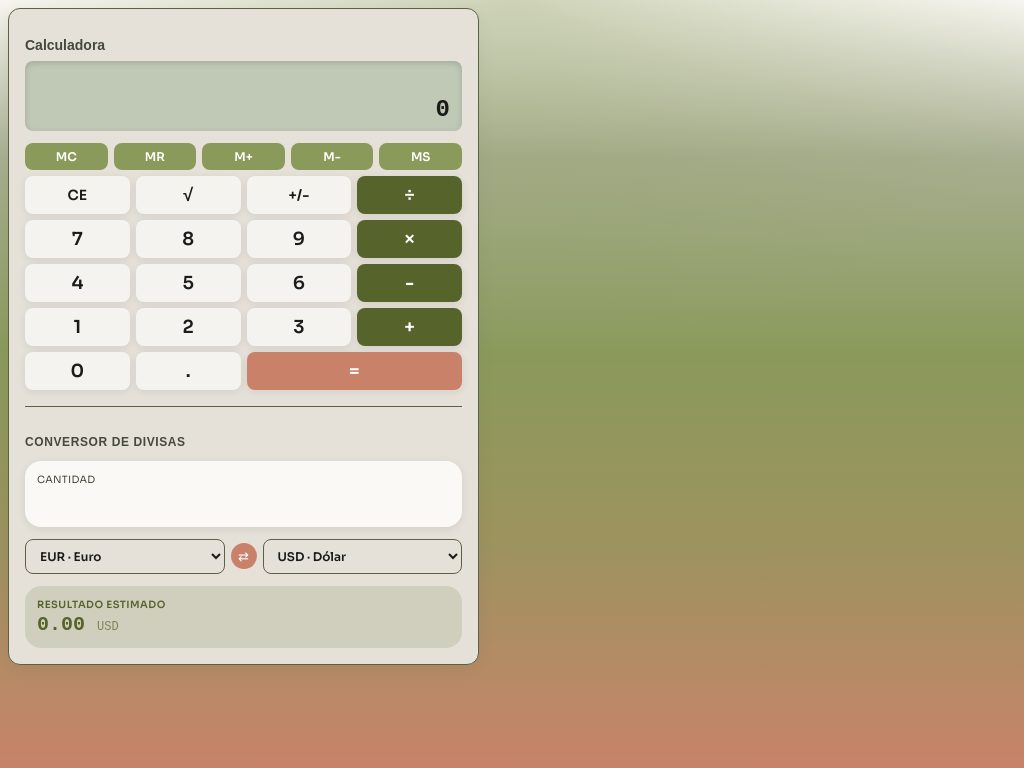
Calculator › deberia sumar dos numeros al pulsar los botones
Click the button "5": point(188, 283) [136,264,241,302]
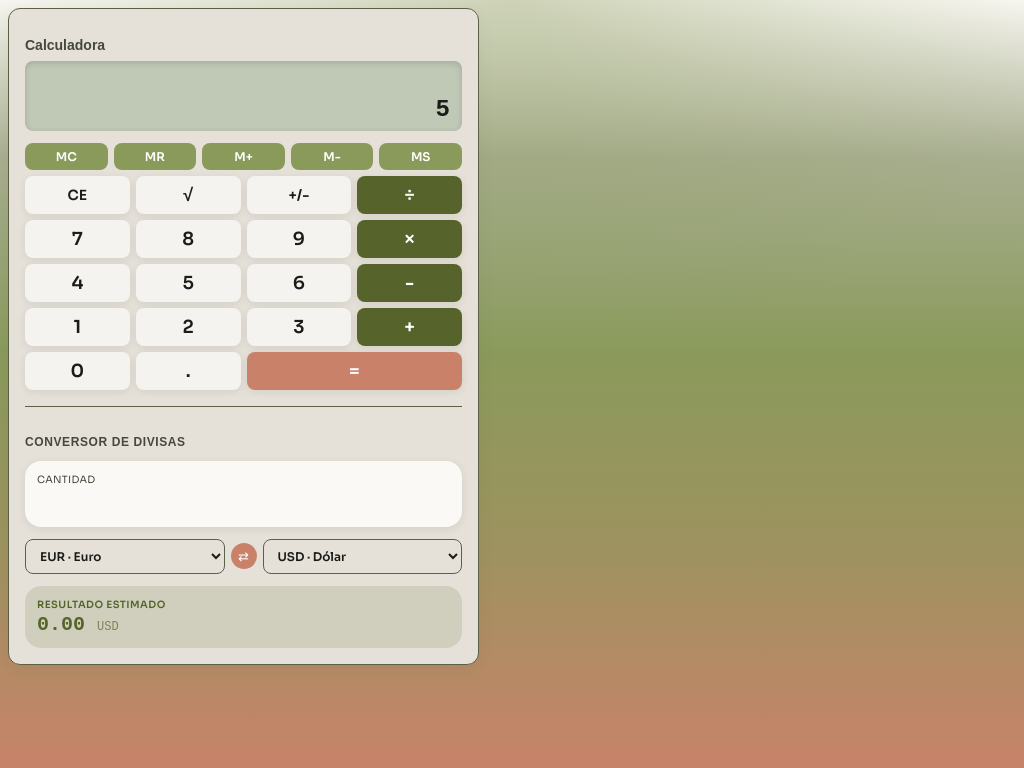
Click the button with id "btn-add": point(410, 327) [357,308,462,346]
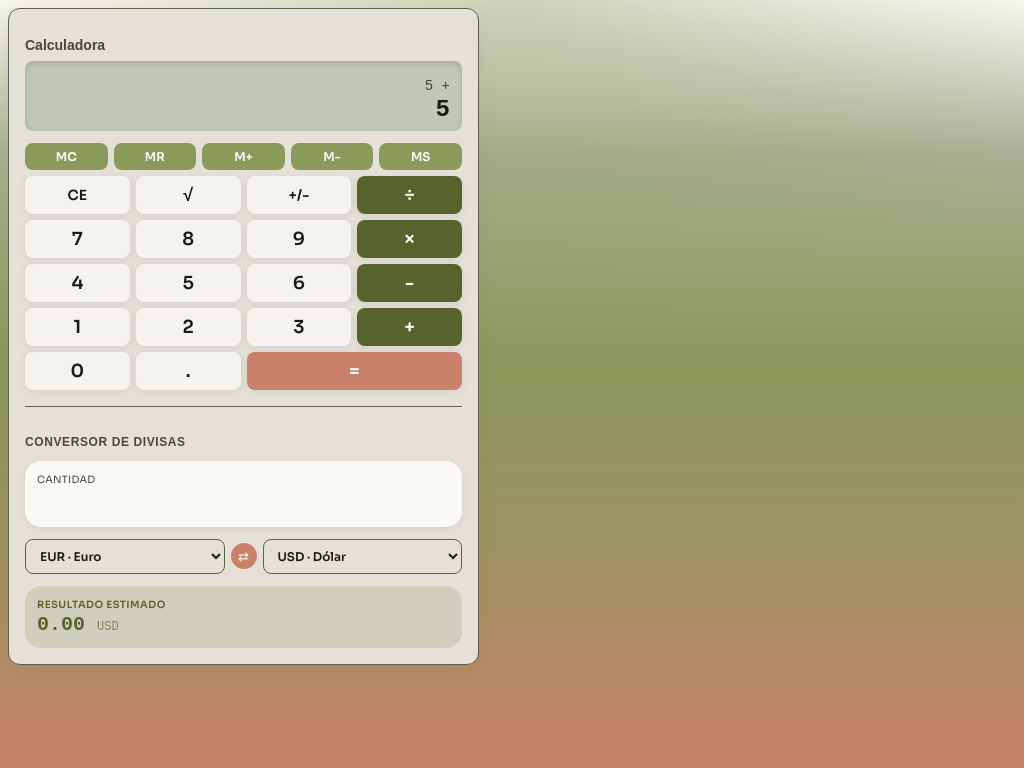
Click the button "3": point(299, 327) [246,308,351,346]
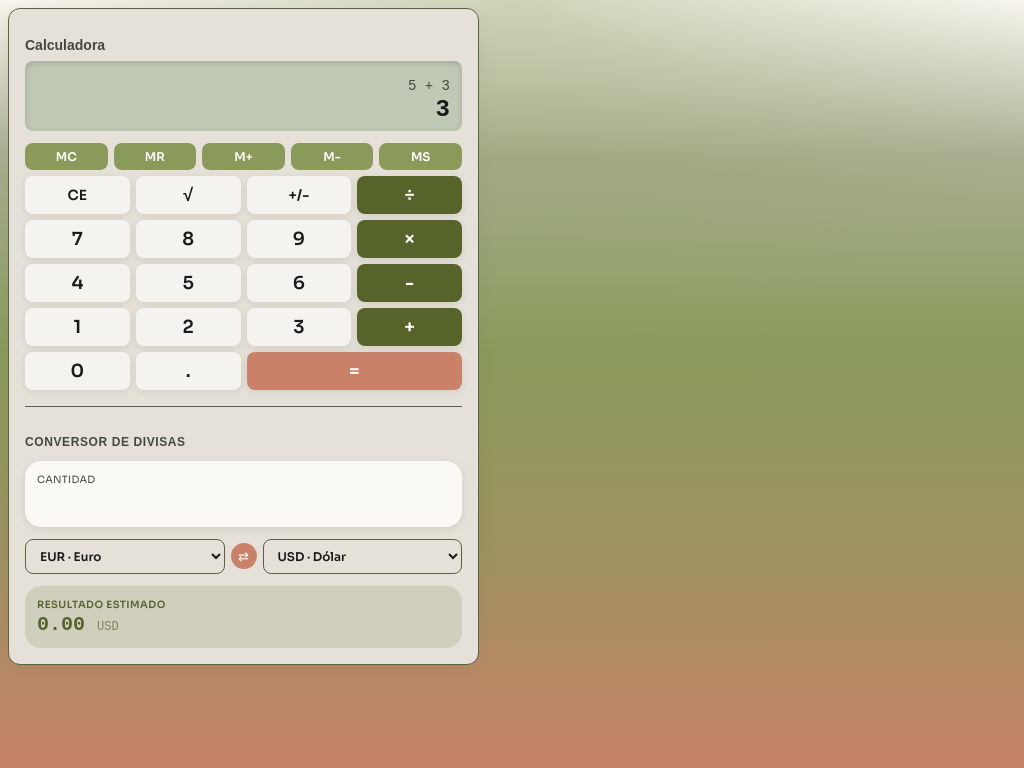
Click the button with id "btn-equals": point(354, 371) [246,352,462,390]
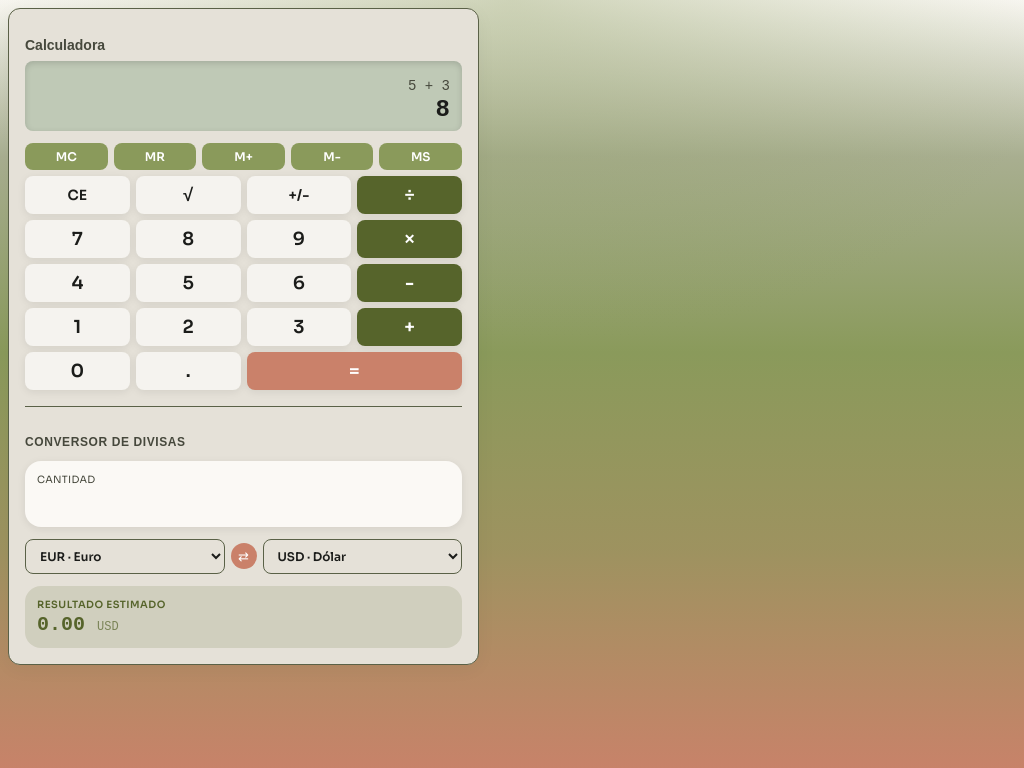
expect the text with class "calculator__result" reads "8": met, box [436,96,450,123]
